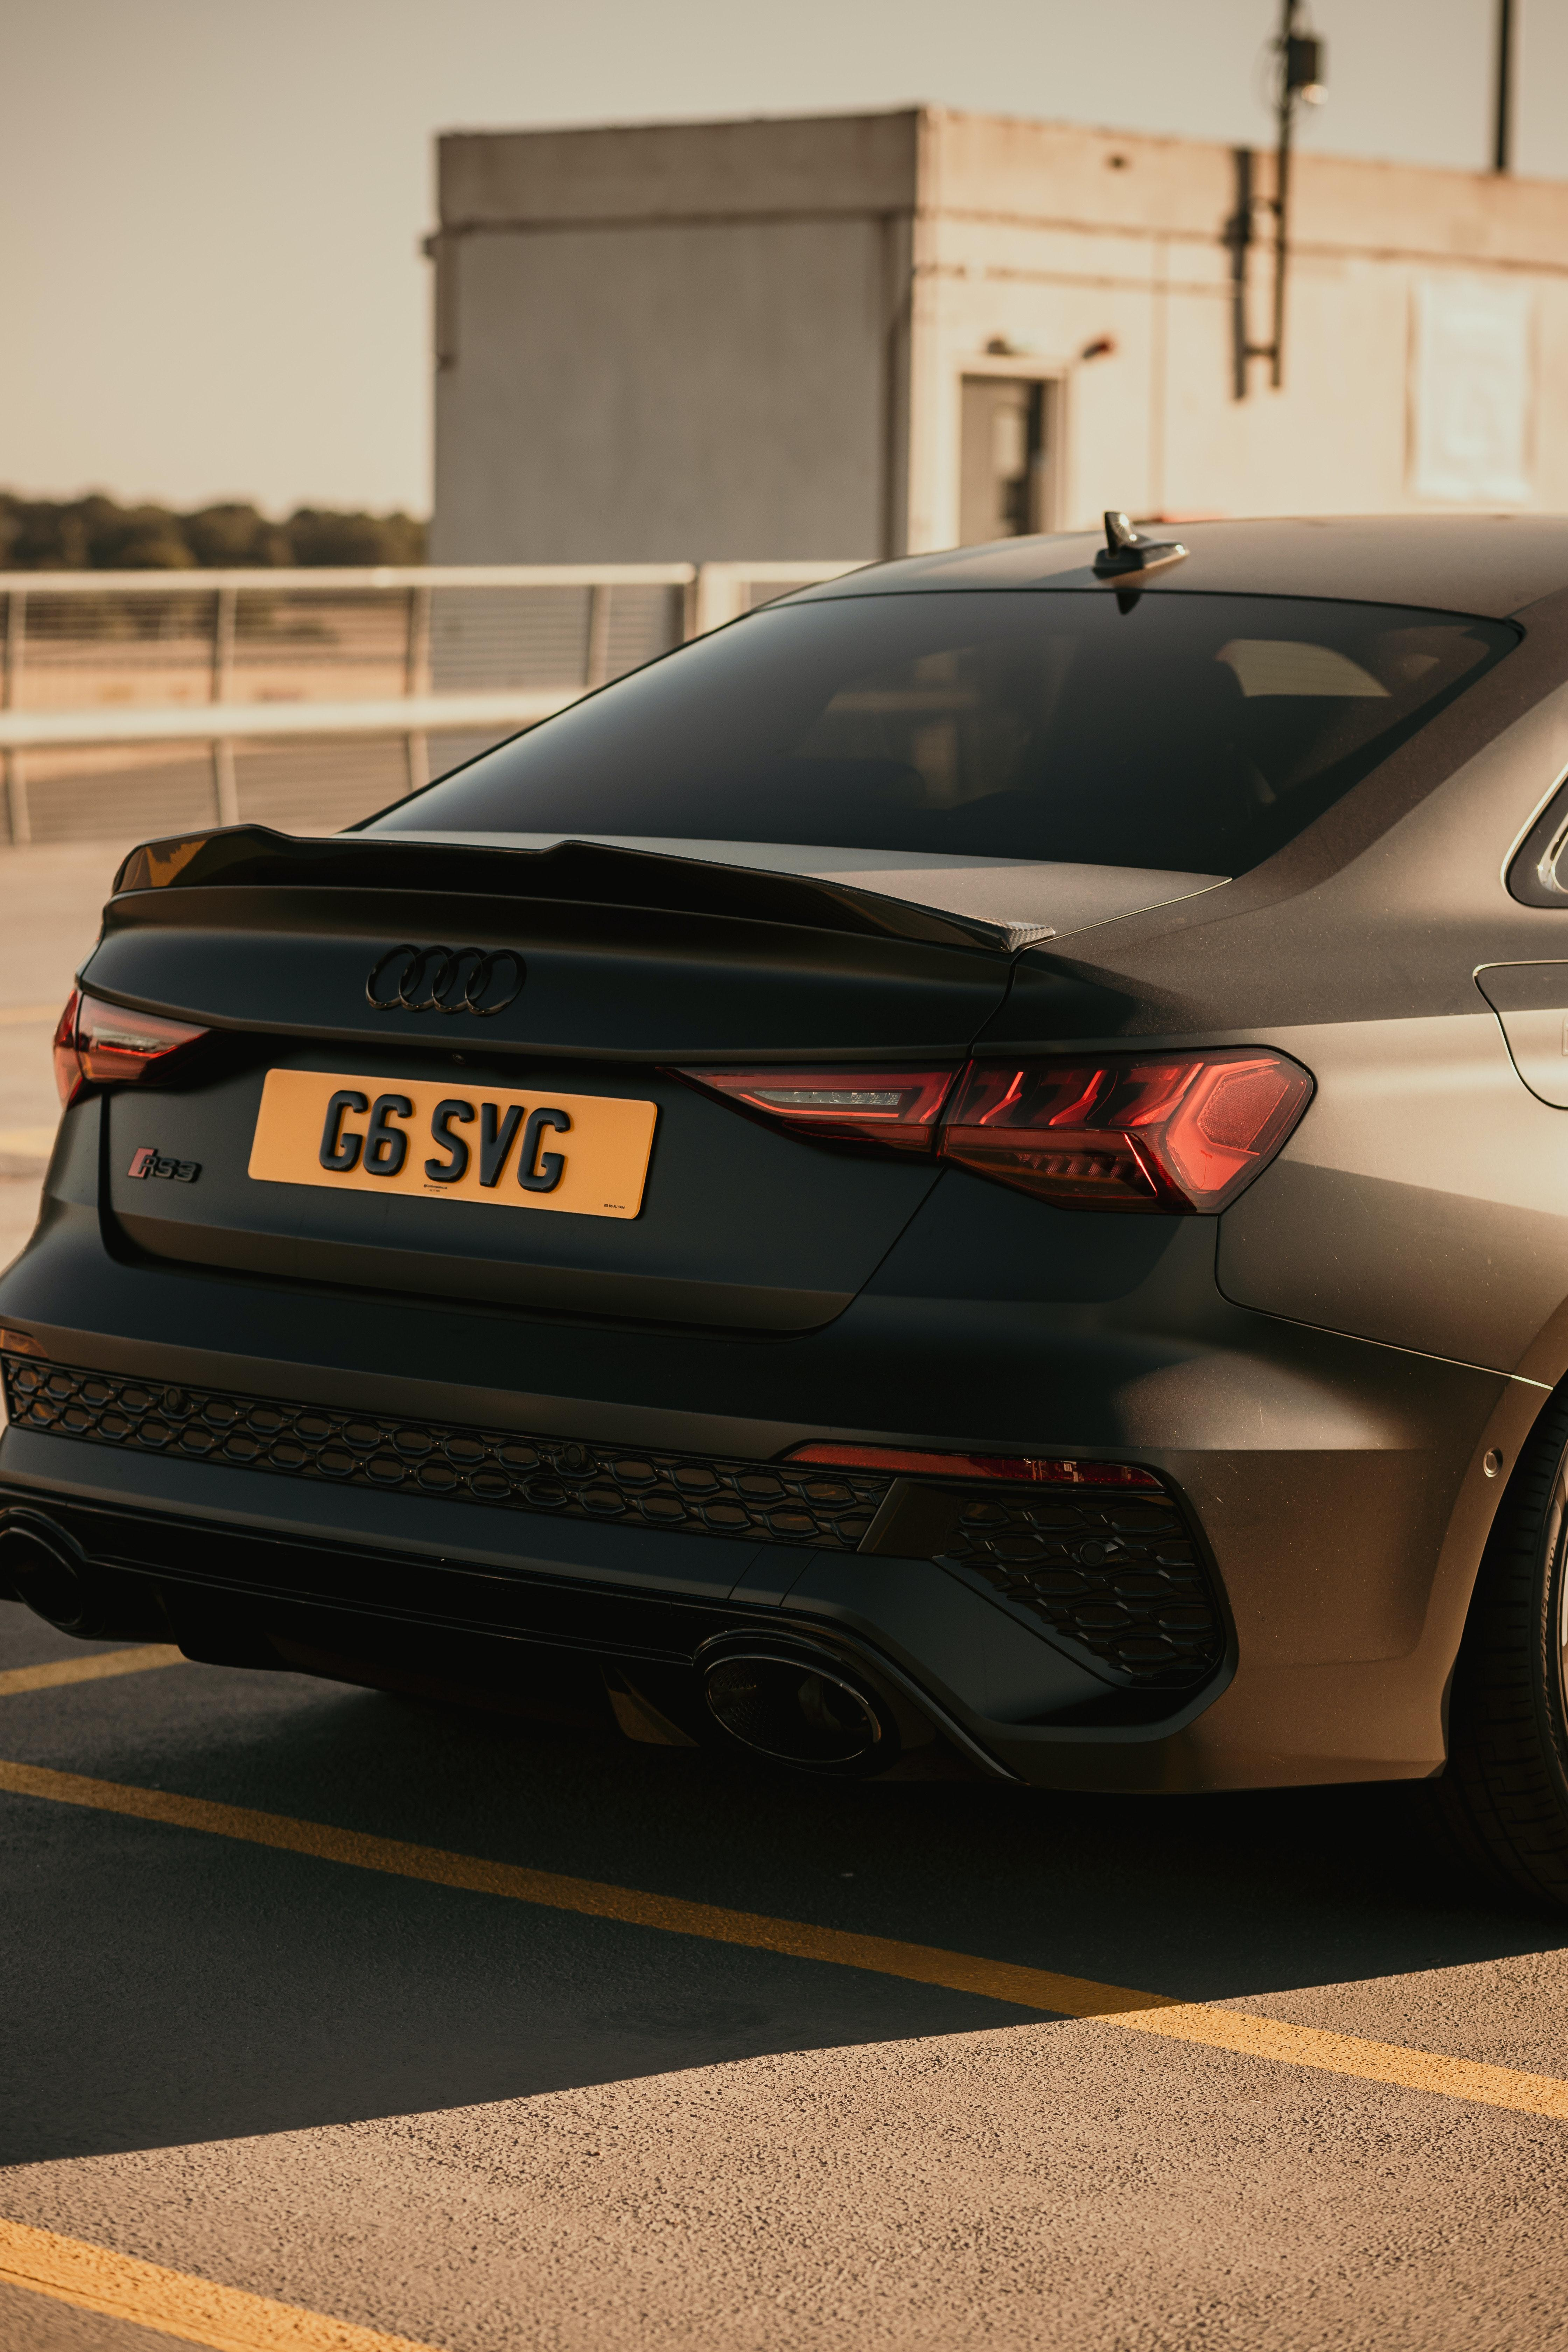Audi: (341, 924, 584, 1045)
